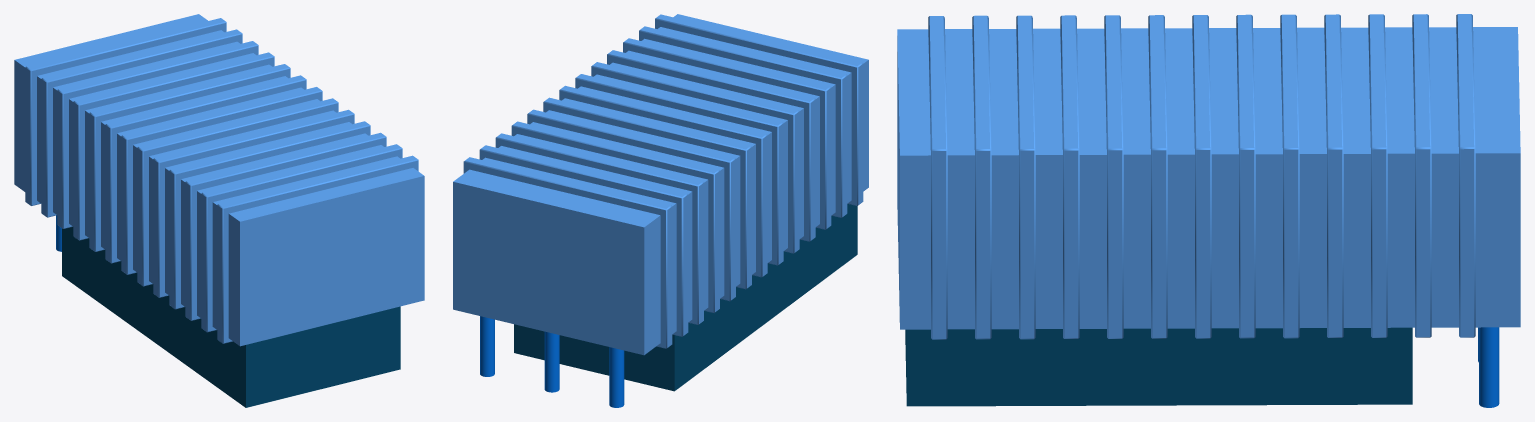
The picture shows the model from 3 angles, left to right: view 1: azimuth 30°, elevation 25°; view 2: azimuth 150°, elevation 25°; view 3: azimuth 270°, elevation 25°; orthographic projection. The views are drawn at different scales.
Visible parts, largest first — view 1: heatsink; view 2: heatsink; view 3: heatsink.
Part boxes in pixels (x1,y1,x2,y2): heatsink: [14, 14, 424, 407]; heatsink: [453, 14, 868, 407]; heatsink: [897, 14, 1520, 407].
Size of the model in its own units: 15.61 by 14.68 by 30.13.
